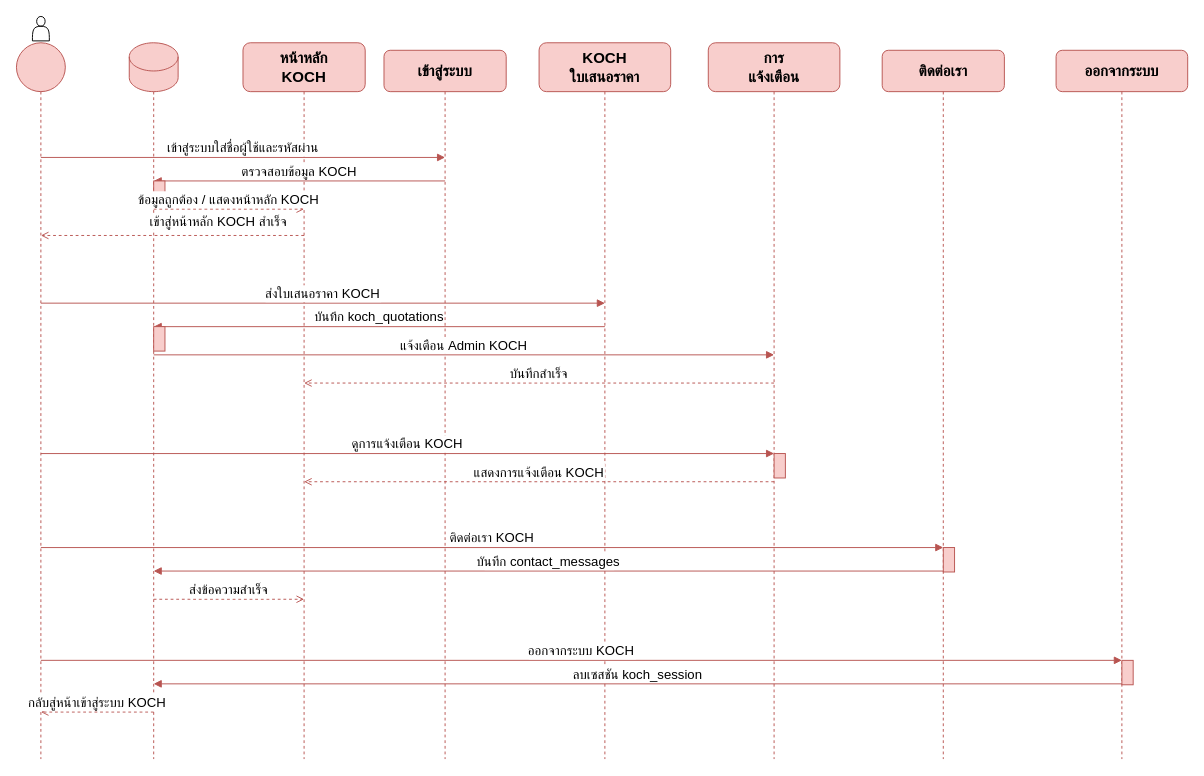
Some shapes in this 1204 by 776 pixel diagram are drawn without their labels. Here are the shapes that lost their labels. From the top down, the centre of each, then its label:
At [40,67]: "KOCH User".
At [153,67]: "Database".
